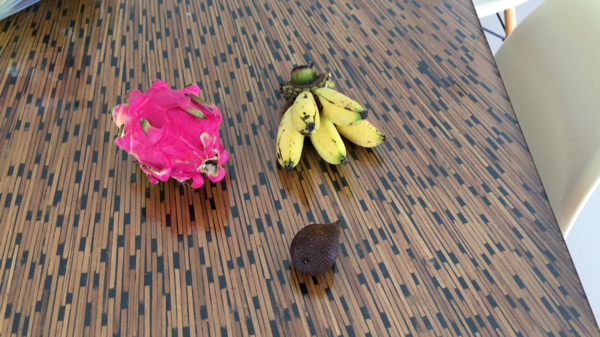banana: (271, 62, 384, 171)
dragon fruit: (110, 83, 230, 188)
snake fruit: (292, 220, 348, 272)
